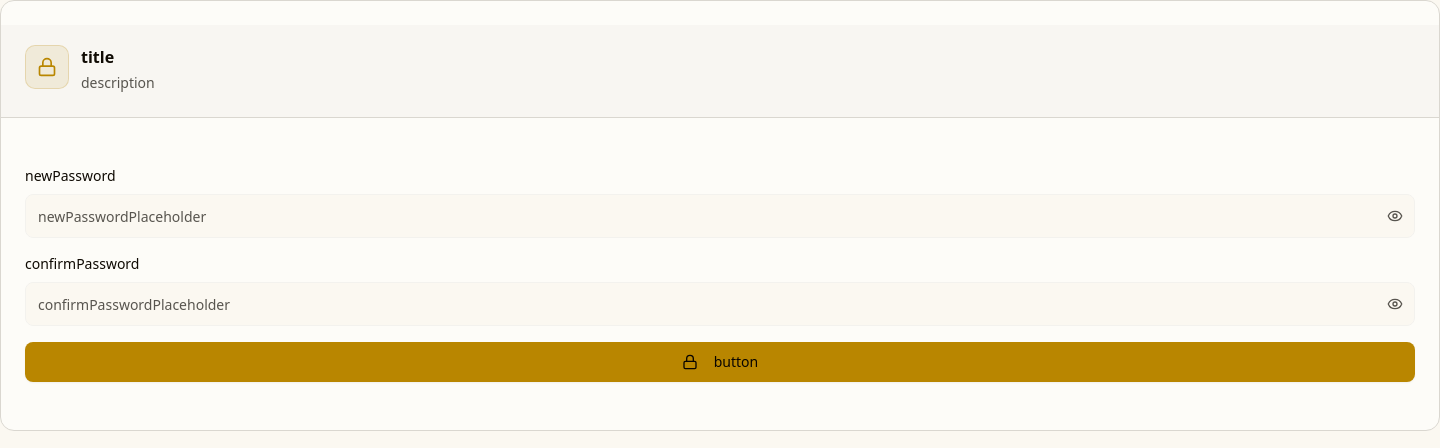
Scenario: PasswordChangeCard › uses translated aria-labels for password visibility toggles
Click the button named "Mostrar nova senha traduzida". click: [1395, 216]
box: [1387,208,1403,224]
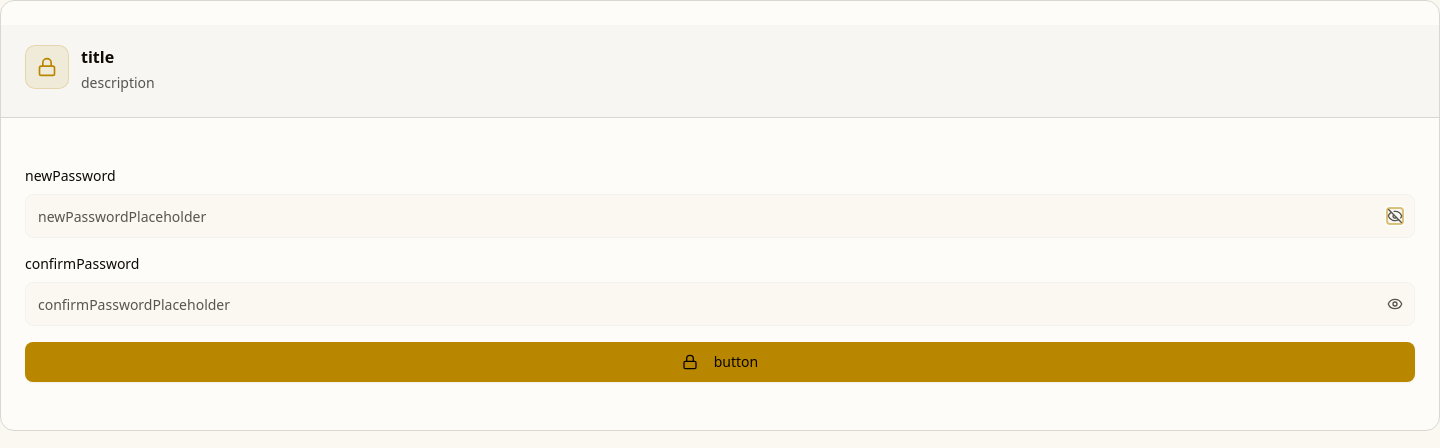
Click the button named "Mostrar confirmacao traduzida". click: [1395, 304]
box: [1387,296,1403,312]
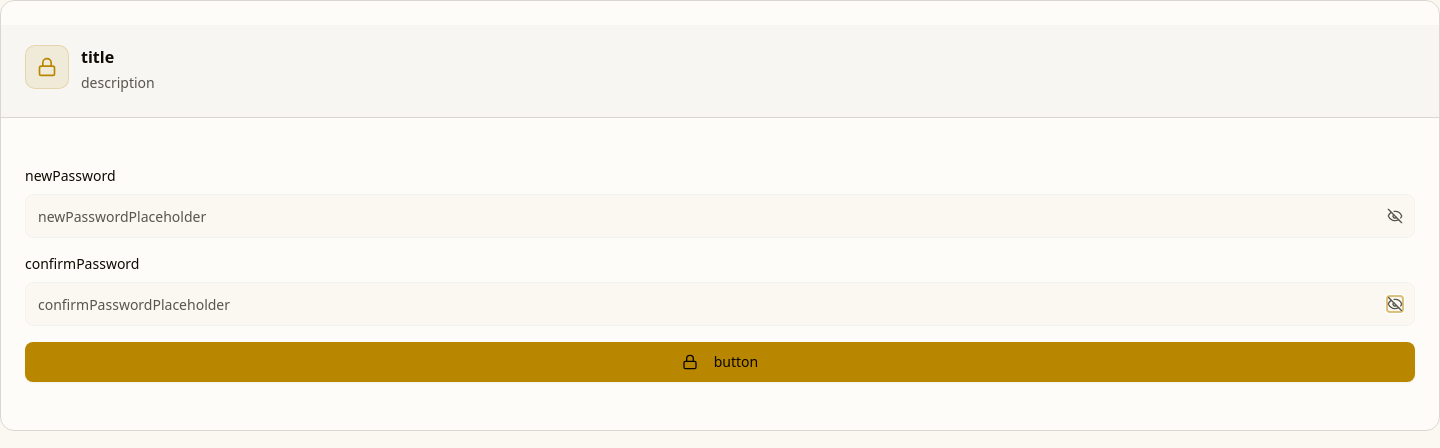
Expected: the button named "Ocultar nova senha traduzida" is shown, [1387,208,1403,224]
Expected: the button named "Ocultar confirmacao traduzida" is shown, [1387,296,1403,312]
